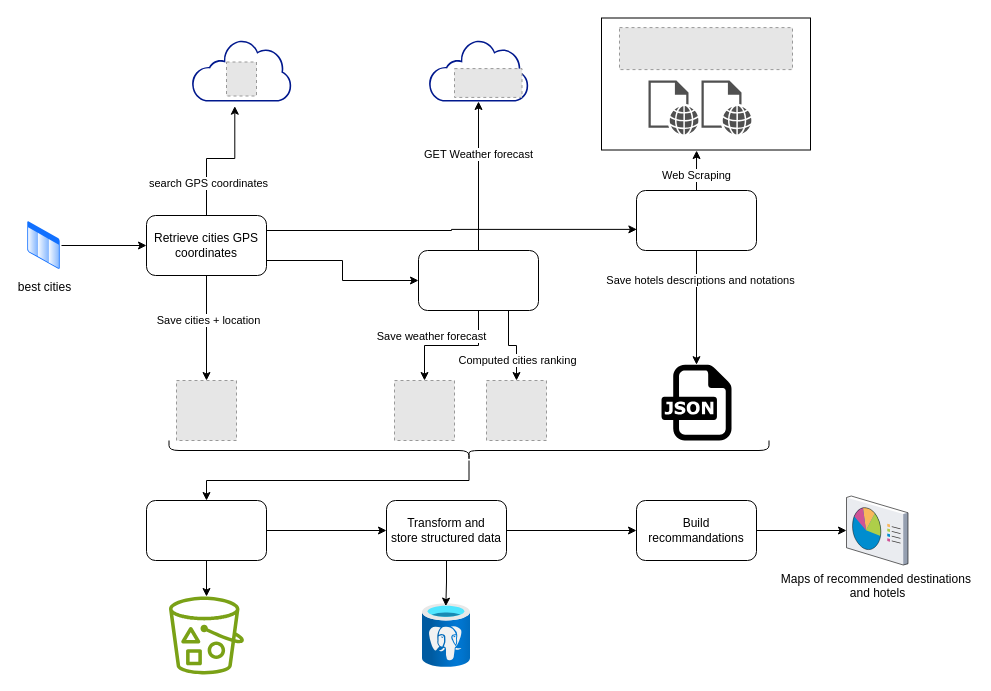
The diagram is 991 pixels wide and 691 high, and some of its shapes have lost their labels. Grey dashed boxes stand in for pictures. The shapes that lost their labels are listed below. From the top down, each one's centre as x and y in pixels, then its label:
At point (696, 220): "Scrape best hotels for each scities".
At point (478, 280): "GET weather forecast for each cities".
At point (206, 530): "Store RAW data".
